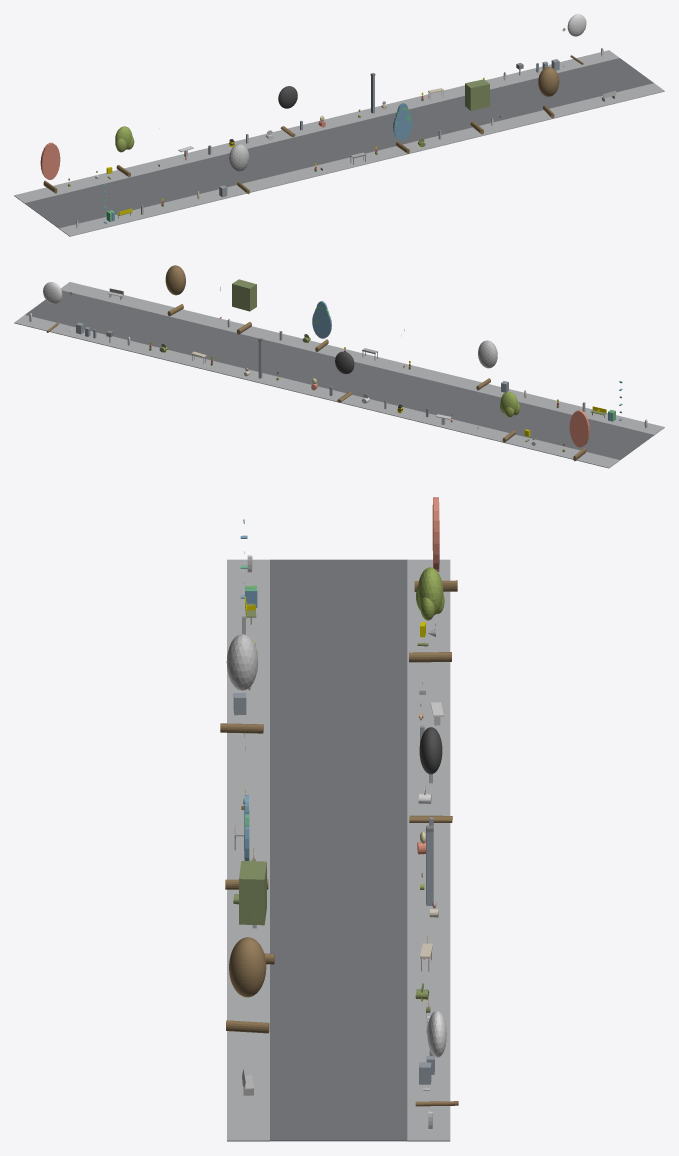
3 views of the same model, one above another, from view 1: azimuth 30°, elevation 25°; view 2: azimuth 150°, elevation 25°; view 3: azimuth 270°, elevation 25° (orthographic). The views are drawn at different scales.
Parts seen in each view (by area): view 1: road_slab, sidewalk_left, sidewalk_right, inst_0023, inst_0018, inst_0022, inst_0024, inst_0020, inst_0019, inst_0021, inst_0025; view 2: road_slab, sidewalk_right, sidewalk_left, inst_0023, inst_0018, inst_0022, inst_0024, inst_0020, inst_0019, inst_0021, inst_0025; view 3: road_slab, sidewalk_right, sidewalk_left, inst_0024, inst_0023, inst_0020, inst_0019, inst_0021, inst_0025.
Part boxes in pixels (bbox=[...]): road_slab: bbox=[25, 58, 653, 228]; sidewalk_left: bbox=[59, 83, 664, 236]; sidewalk_right: bbox=[14, 50, 619, 203]; inst_0023: bbox=[465, 79, 489, 134]; inst_0018: bbox=[40, 142, 60, 193]; inst_0022: bbox=[393, 103, 412, 153]; inst_0024: bbox=[538, 67, 559, 118]; inst_0020: bbox=[229, 144, 249, 194]; inst_0019: bbox=[115, 126, 134, 177]; inst_0021: bbox=[278, 86, 297, 137]; inst_0025: bbox=[567, 14, 586, 64]; road_slab: bbox=[25, 290, 653, 459]; sidewalk_right: bbox=[14, 315, 619, 468]; sidewalk_left: bbox=[61, 282, 664, 435]; inst_0023: bbox=[232, 279, 256, 334]; inst_0018: bbox=[569, 410, 589, 461]; inst_0022: bbox=[312, 301, 331, 351]; inst_0024: bbox=[165, 265, 185, 316]; inst_0020: bbox=[476, 340, 497, 390]; inst_0019: bbox=[500, 391, 520, 442]; inst_0021: bbox=[335, 351, 354, 402]; inst_0025: bbox=[43, 282, 62, 332]; road_slab: bbox=[270, 559, 407, 1141]; sidewalk_right: bbox=[407, 559, 450, 1141]; sidewalk_left: bbox=[227, 559, 269, 1141]; inst_0024: bbox=[226, 937, 269, 1033]; inst_0023: bbox=[239, 861, 274, 964]; inst_0020: bbox=[220, 634, 263, 733]; inst_0019: bbox=[409, 567, 451, 662]; inst_0021: bbox=[409, 727, 452, 822]; inst_0025: bbox=[415, 1011, 458, 1106].
Size of the model in its own units: 80 by 6.08 by 13.87.
